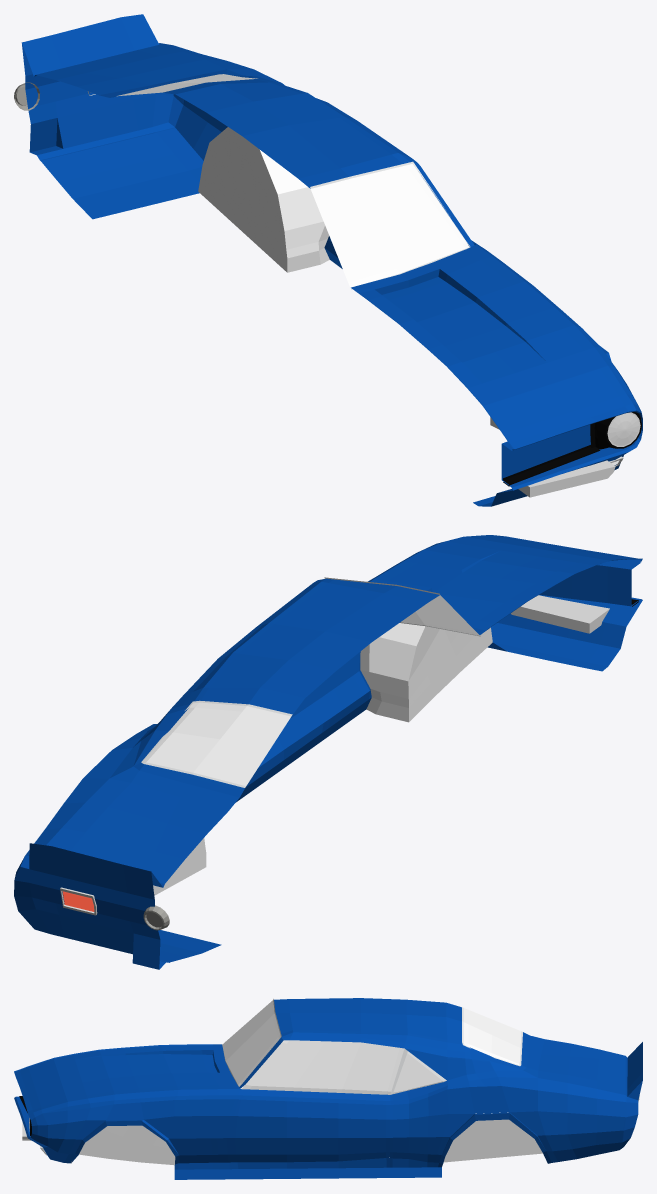
Rendered from Chevrolet_Camaro_SS_SR.glb.
3 renders of one model, top to bottom at view 1: azimuth 30°, elevation 25°; view 2: azimuth 150°, elevation 25°; view 3: azimuth 270°, elevation 25°, orthographic. The views are drawn at different scales.
Visible parts, largest first — view 1: Carroceria.001, Parabrisas_Ad, Carroceria_2, Plano.002, Rejilla, Faro_2, Parabrisas_Tr, Faro_Protector; view 2: Carroceria.001, Parabrisas_Tr, Carroceria_2, Plano.002, Pueratas, Parabrisas_Ad, Luz_Tr, Marco_Parabrisad_Tr; view 3: Carroceria.001, Pueratas, Ventana_1, Parabrisas_Ad, Parabrisas_Tr, Ventana_2, Marco_Ventana_2.
Boxes of the visible parts, box(x1,y1,x2,y2) form: Carroceria.001: box(21, 14, 642, 506); Parabrisas_Ad: box(310, 164, 469, 287); Carroceria_2: box(501, 424, 638, 487); Plano.002: box(518, 460, 615, 497); Rejilla: box(503, 445, 600, 486); Faro_2: box(608, 413, 639, 445); Parabrisas_Tr: box(117, 74, 255, 96); Faro_Protector: box(590, 412, 641, 449); Carroceria.001: box(14, 535, 642, 969); Parabrisas_Tr: box(144, 702, 291, 785); Carroceria_2: box(539, 559, 640, 606); Plano.002: box(511, 595, 609, 633); Pueratas: box(258, 686, 330, 767); Parabrisas_Ad: box(401, 595, 479, 635); Luz_Tr: box(60, 887, 97, 915); Marco_Parabrisad_Tr: box(141, 700, 292, 787); Carroceria.001: box(14, 998, 642, 1179); Pueratas: box(226, 1089, 390, 1162); Ventana_1: box(242, 1040, 404, 1094); Parabrisas_Ad: box(222, 1000, 280, 1086); Parabrisas_Tr: box(463, 1008, 521, 1064); Ventana_2: box(393, 1053, 442, 1092); Marco_Ventana_2: box(390, 1048, 446, 1094).
Bounding box in the file's own units: 2.1 × 2.33 × 9.85.
